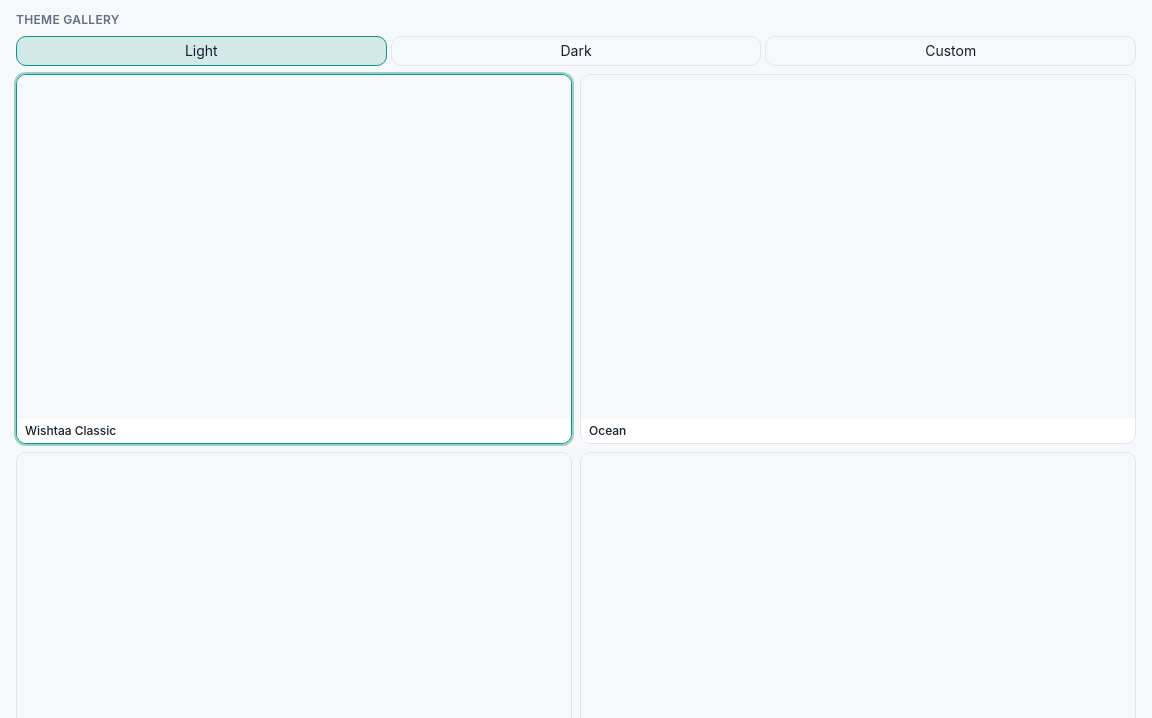
Test case: custom themes › saves the map’s current look as a theme: in My themes, applied, and stored inside the map
The image size is (1152, 718).
Click the tab "custom" at (951, 51), box [765,36,1136,66]
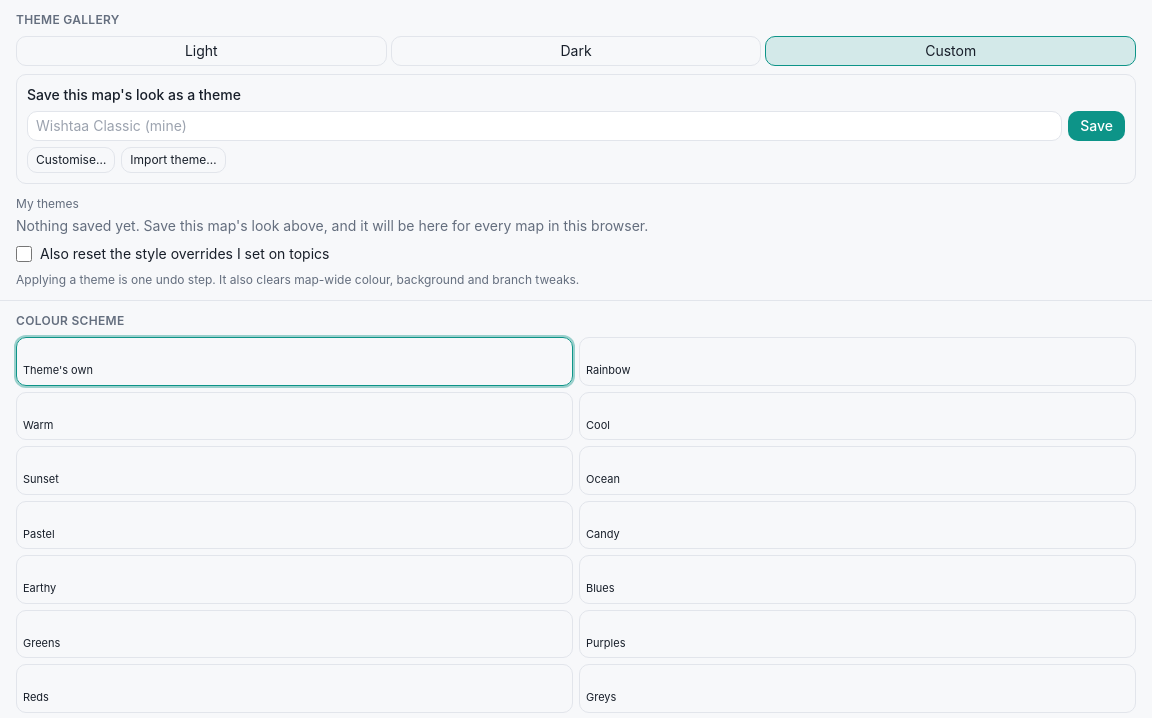
Type "Team look" into the field named "Theme name" at (545, 126), box [27,111,1062,141]
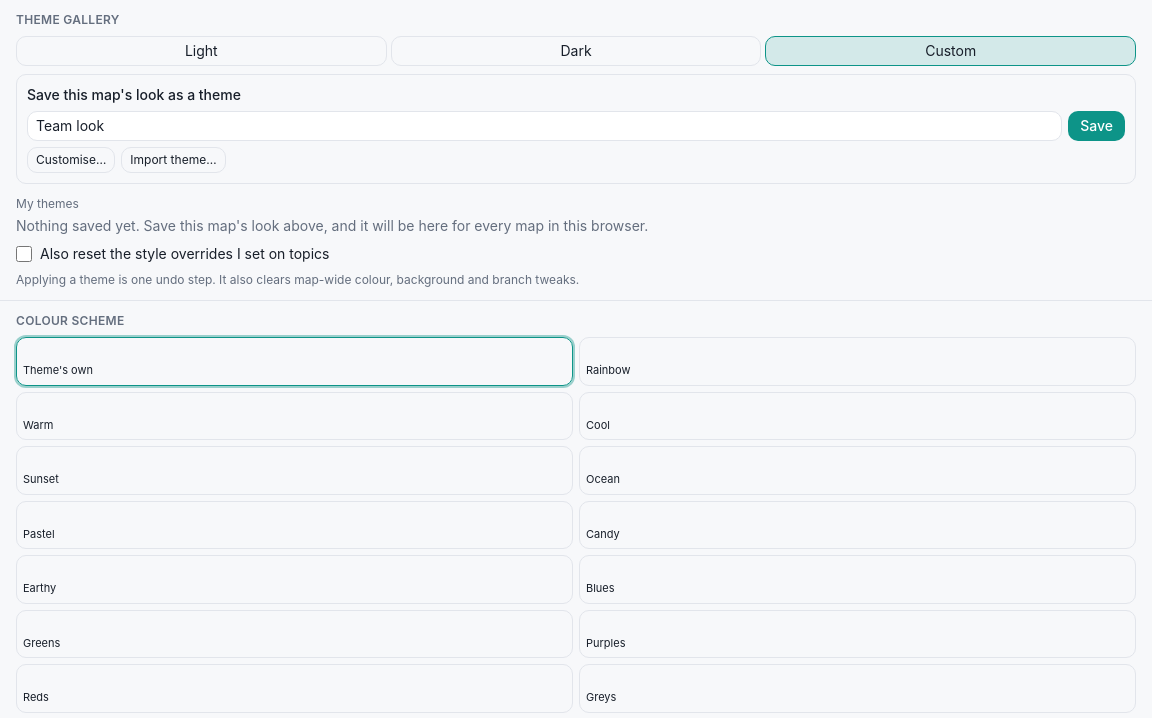
Click the button "Save" at (1097, 126), box [1068,111,1125,141]
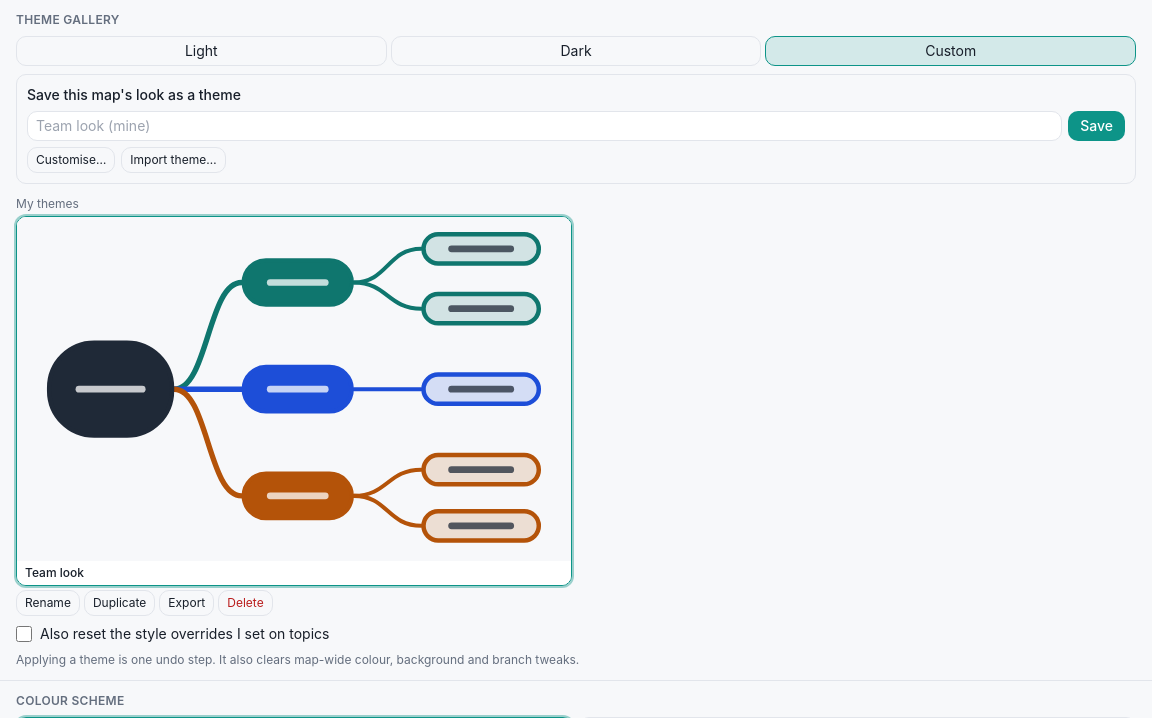
Result: the button with aria-label "Team look theme" is shown at [16,216,572,586]
